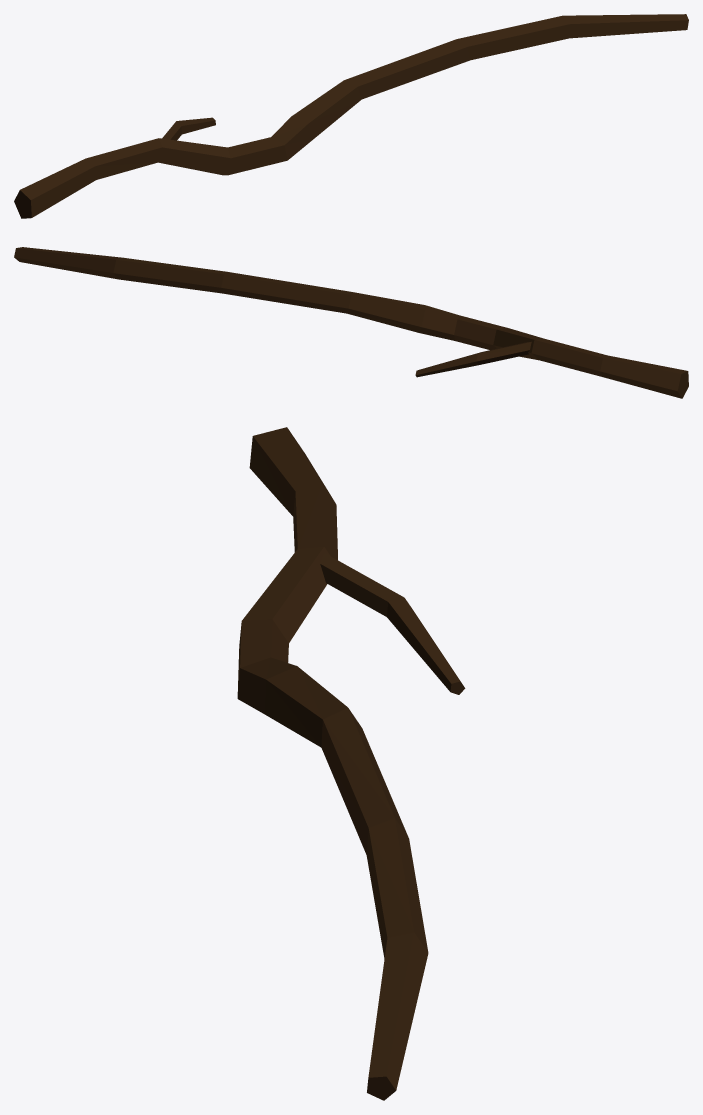
File: Galaz_4.fbx
3 renders of one model, top to bottom at view 1: azimuth 30°, elevation 25°; view 2: azimuth 150°, elevation 25°; view 3: azimuth 270°, elevation 25°, orthographic. The views are drawn at different scales.
Visible parts, largest first — view 1: Galaz_4_LOD0; view 2: Galaz_4_LOD0; view 3: Galaz_4_LOD0.
Part boxes in pixels (x1,y1,x2,y2): Galaz_4_LOD0: (14, 14, 688, 218); Galaz_4_LOD0: (14, 247, 688, 398); Galaz_4_LOD0: (237, 427, 465, 1100).
Size of what is drawn, in the model's own units: 2442 by 153 by 376.
